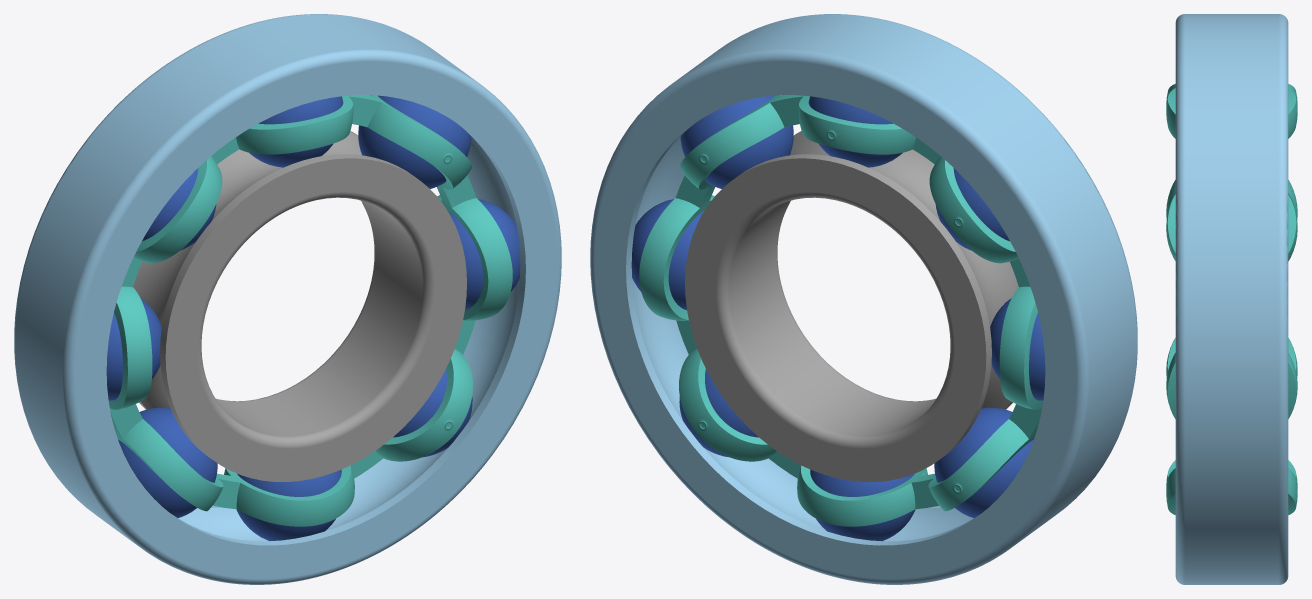
The picture shows the model from 3 angles, left to right: view 1: azimuth 30°, elevation 25°; view 2: azimuth 150°, elevation 25°; view 3: azimuth 270°, elevation 25°; orthographic projection.
Visible parts, largest first — view 1: outer race, inner race, cage, ball (×8); view 2: outer race, inner race, cage, ball (×8); view 3: outer race, cage.
Boxes of the visible parts, x1=… form: outer race: x1=14, y1=14, x2=561, y2=584; inner race: x1=133, y1=131, x2=466, y2=481; cage: x1=108, y1=95, x2=512, y2=526; ball (×8): x1=106, y1=95, x2=520, y2=540; outer race: x1=590, y1=14, x2=1137, y2=584; inner race: x1=685, y1=131, x2=1018, y2=481; cage: x1=639, y1=95, x2=1043, y2=526; ball (×8): x1=631, y1=95, x2=1045, y2=541; outer race: x1=1175, y1=14, x2=1288, y2=584; cage: x1=1166, y1=84, x2=1297, y2=514.
Size of the model in its own units: 0.0608 by 0.0608 by 0.014.
